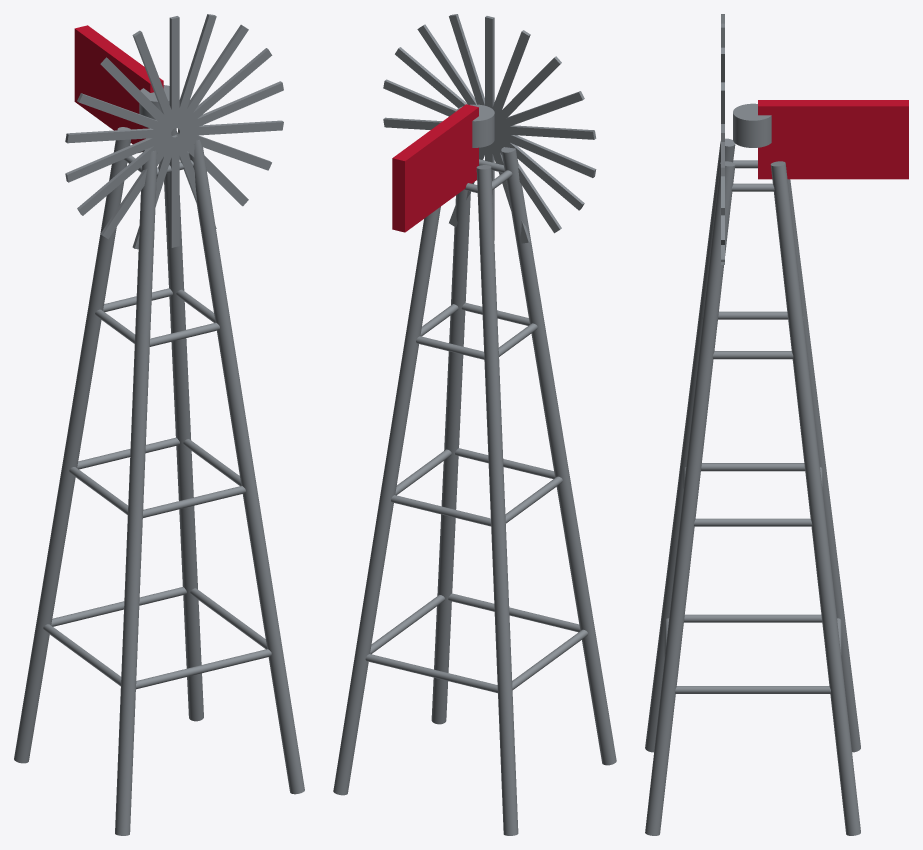
File: g08-windmotor-steel.glb
3 views of the same model, side by side, from view 1: azimuth 30°, elevation 25°; view 2: azimuth 150°, elevation 25°; view 3: azimuth 270°, elevation 25° (orthographic). The views are drawn at different scales.
Visible parts, largest first — view 1: part0, part1, part3, part2, part39, part4, part20, part21, part22, part29, part23, part32 (+19 smaller); view 2: part3, part0, part2, part1, part39, part6, part33, part4, part34, part32, part21, part22 (+16 smaller); view 3: part39, part2, part1, part0, part3, part38, part5, part7, part9, part11, part13, part15.
Part boxes in pixels (x1=…): part0: x1=115, y1=149, x2=156, y2=835; part1: x1=188, y1=139, x2=304, y2=794; part3: x1=14, y1=127, x2=130, y2=763; part2: x1=164, y1=128, x2=203, y2=721; part39: x1=74, y1=25, x2=163, y2=144; part4: x1=136, y1=649, x2=271, y2=689; part20: x1=169, y1=16, x2=179, y2=128; part21: x1=174, y1=14, x2=216, y2=128; part22: x1=176, y1=24, x2=248, y2=130; part29: x1=169, y1=135, x2=179, y2=247; part23: x1=177, y1=48, x2=272, y2=132; part32: x1=77, y1=133, x2=172, y2=215; part3: x1=476, y1=165, x2=518, y2=835; part0: x1=501, y1=147, x2=616, y2=765; part2: x1=333, y1=206, x2=440, y2=795; part1: x1=431, y1=190, x2=470, y2=724; part39: x1=392, y1=104, x2=478, y2=232; part6: x1=365, y1=654, x2=497, y2=693; part33: x1=494, y1=128, x2=596, y2=177; part4: x1=448, y1=593, x2=580, y2=632; part34: x1=494, y1=125, x2=596, y2=139; part32: x1=494, y1=130, x2=584, y2=210; part21: x1=449, y1=14, x2=484, y2=105; part22: x1=417, y1=24, x2=476, y2=104; part39: x1=758, y1=100, x2=908, y2=179; part2: x1=770, y1=161, x2=860, y2=835; part1: x1=645, y1=161, x2=735, y2=835; part0: x1=645, y1=138, x2=735, y2=752; part3: x1=787, y1=179, x2=860, y2=752; part38: x1=733, y1=103, x2=771, y2=147; part5: x1=675, y1=686, x2=830, y2=693; part7: x1=684, y1=614, x2=822, y2=622; part9: x1=694, y1=518, x2=812, y2=526; part11: x1=701, y1=463, x2=805, y2=471; part13: x1=712, y1=351, x2=793, y2=359; part15: x1=718, y1=311, x2=787, y2=319.
Size of the model in its own units: 4955 by 16822 by 5249.
